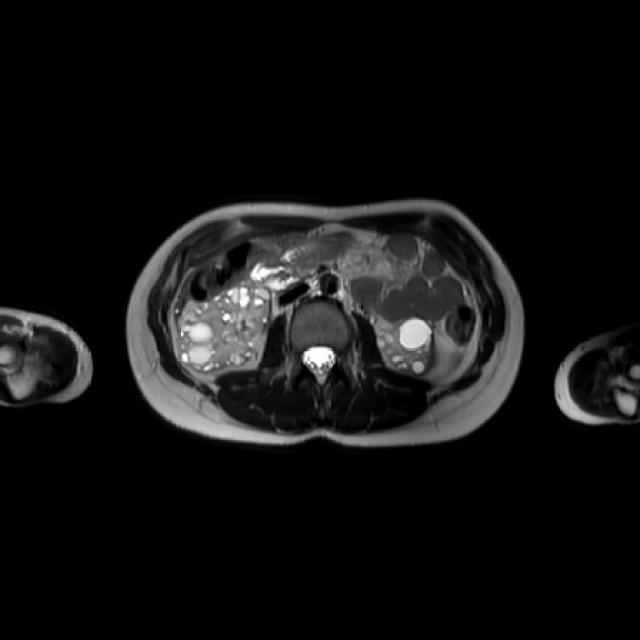sag: (178, 285, 272, 374)
sol: (377, 315, 436, 378)
